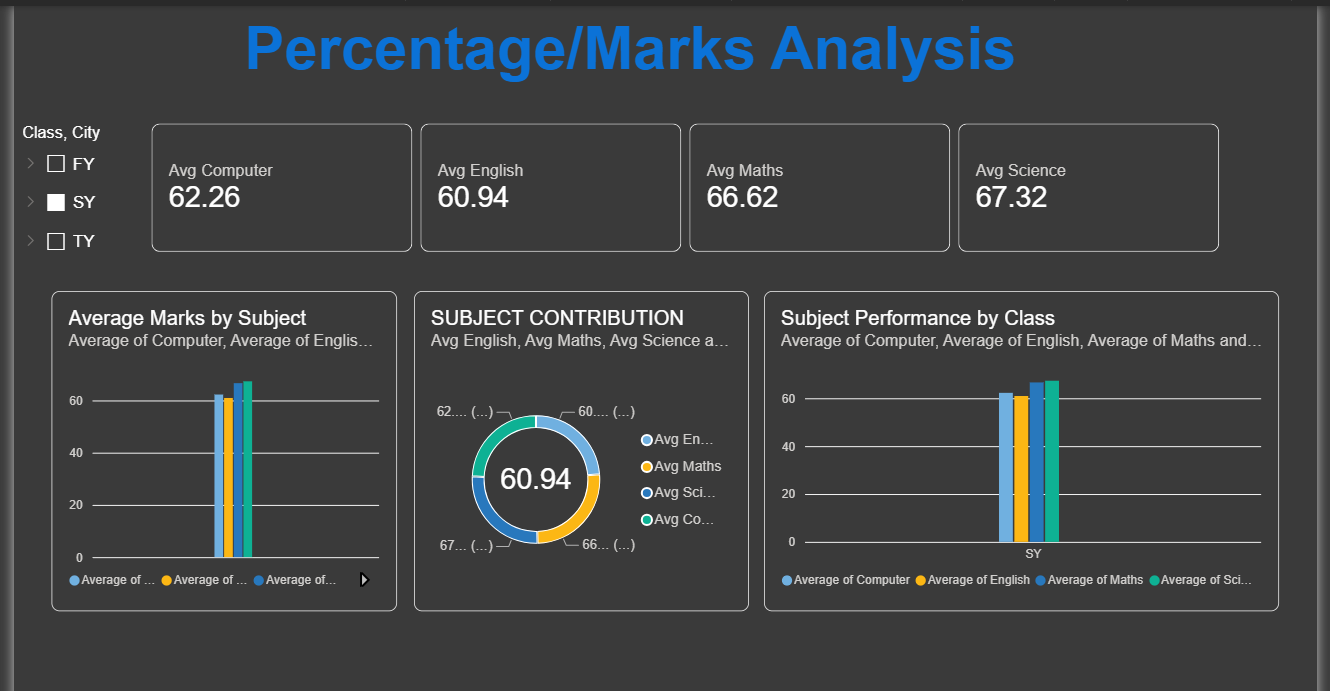

This screenshot's page, from the dashboard's own definition file:
{"tool":"powerbi","page":{"name":"Page 6","canvas":[1280,720],"ordinal":5},"visuals":[{"type":"textbox","box":[63.3,8.9,1082.2,86.7],"z":0},{"type":"cardVisual","fields":{"Data":["Students.Avg Computer","Students.Avg English","Students.Avg Maths","Students.Avg Science"]},"box":[134.4,115.6,1048.9,126.7],"z":1000},{"type":"clusteredColumnChart","title":"Average Marks by Subject","fields":{"Y":["Avg(Students.Computer)","Avg(Students.English)","Avg(Students.Maths)","Avg(Students.Science)"]},"box":[36.8,279.8,338.9,314.4],"z":2000},{"type":"clusteredColumnChart","title":"Subject Performance by Class","fields":{"Category":["Students.Class"],"Y":["Avg(Students.Computer)","Avg(Students.English)","Avg(Students.Maths)","Avg(Students.Science)"]},"box":[736.2,279.8,505.6,314.4],"z":3000},{"type":"donutChart","title":"SUBJECT CONTRIBUTION","fields":{"Y":["Students.Avg English","Students.Avg Maths","Students.Avg Science","Students.Avg Computer"]},"box":[392.6,279.8,328.9,314.4],"z":4000},{"type":"slicer","fields":{"Values":["Students.Class","Students.City"]},"box":[0,115.6,134.4,141.1],"z":5000}]}

Visuals, with their boxes on the page's 1280x720 design canvas (x1, y1, x2, y2). These are canvas units, not pixel positions in the 1330x691 screenshot, which may show the page scaled, cropped or inside an application window:
textbox: l=63, t=9, r=1146, b=96
cardVisual - Students.Avg Computer x Students.Avg English: l=134, t=116, r=1183, b=242
"Average Marks by Subject" clusteredColumnChart: l=37, t=280, r=376, b=594
"Subject Performance by Class" clusteredColumnChart: l=736, t=280, r=1242, b=594
"SUBJECT CONTRIBUTION" donutChart: l=393, t=280, r=722, b=594
slicer - Students.Class x Students.City: l=0, t=116, r=134, b=257
